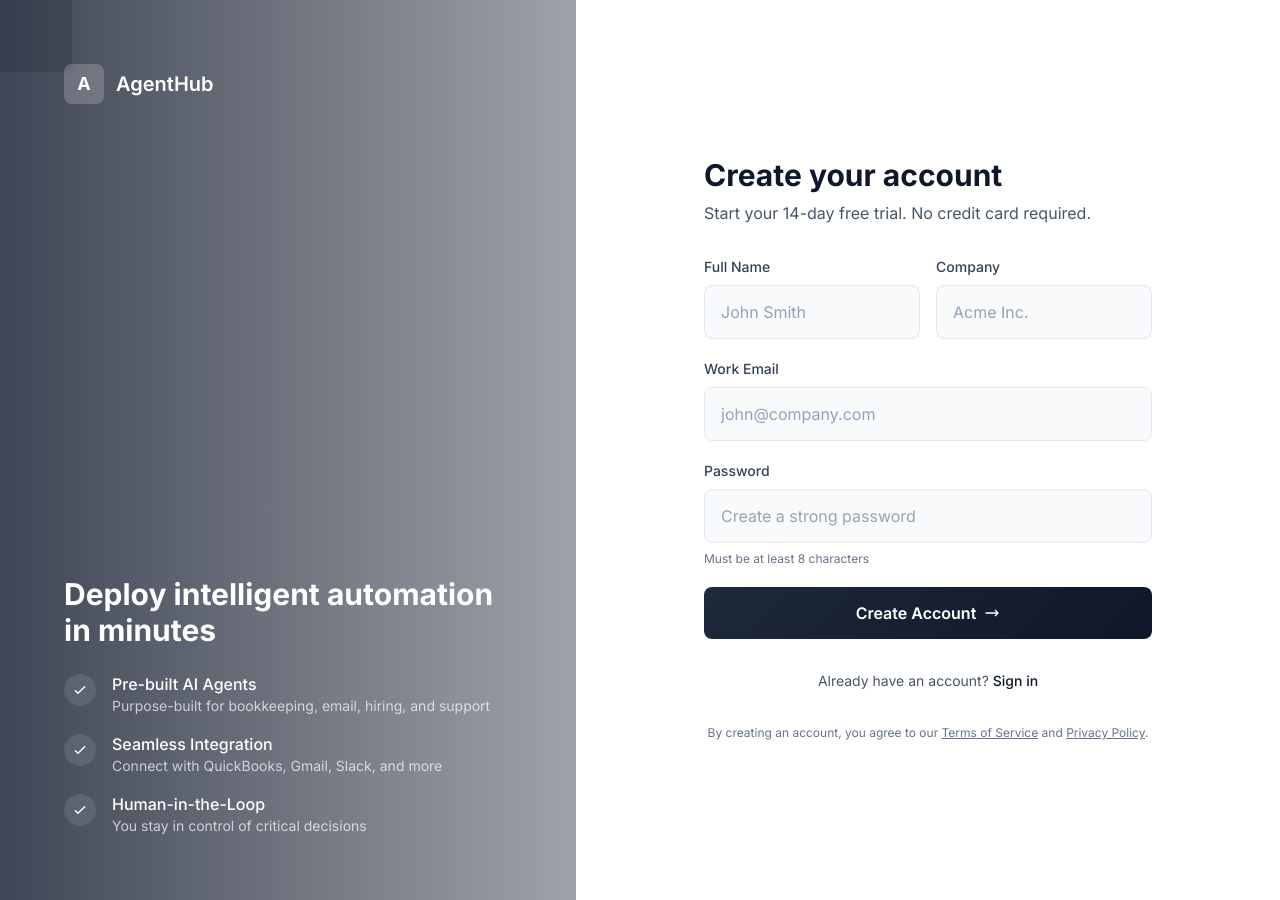
Test: SignUpPage › Form Submission › should display generic error when error has no message
This screenshot has width=1280, height=900.
Type "Jane Doe" into the field with placeholder "John Smith" at (812, 312), box [704,285,920,339]
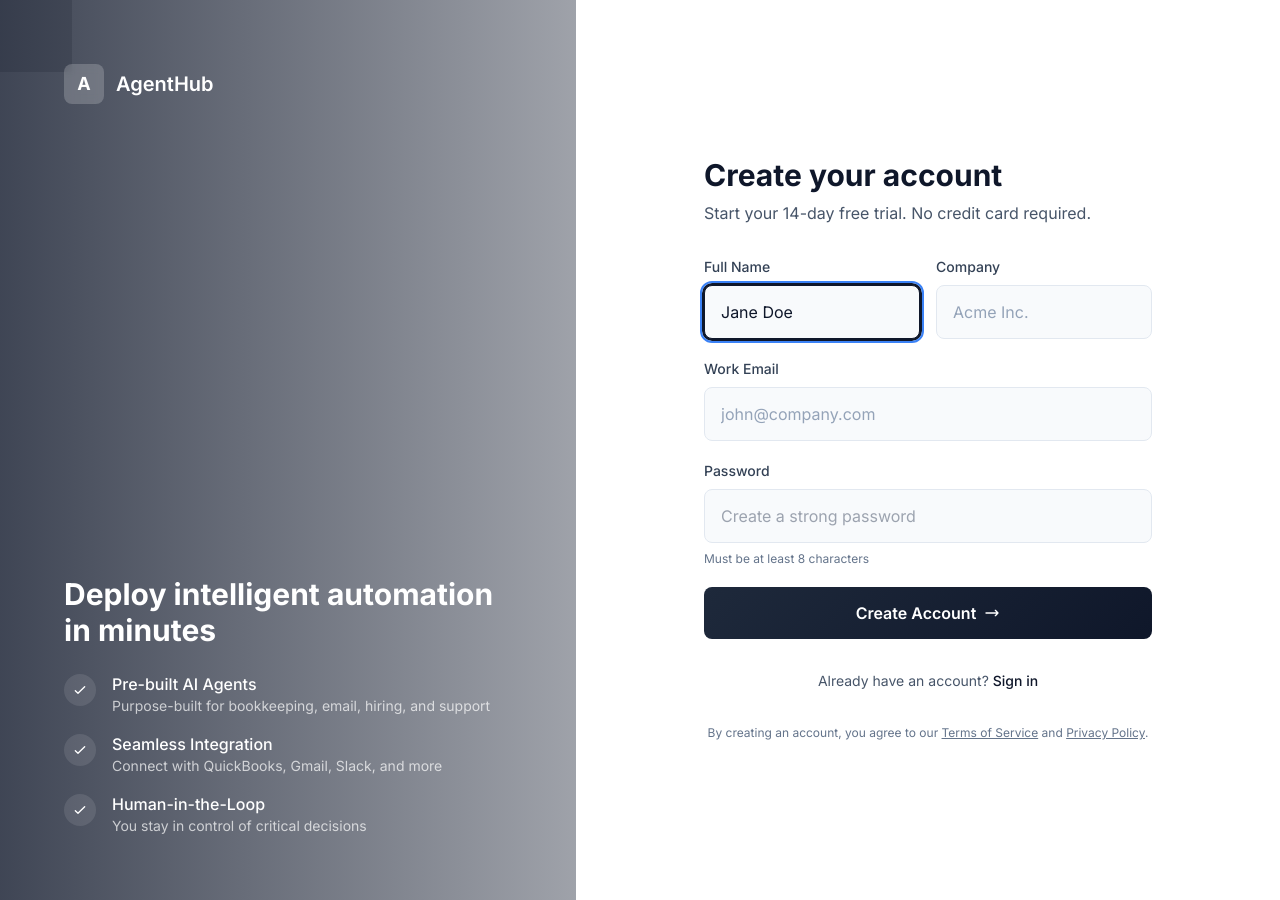
Type "jane@test.com" into the field with placeholder "john@company.com" at (928, 414), box [704,387,1152,441]
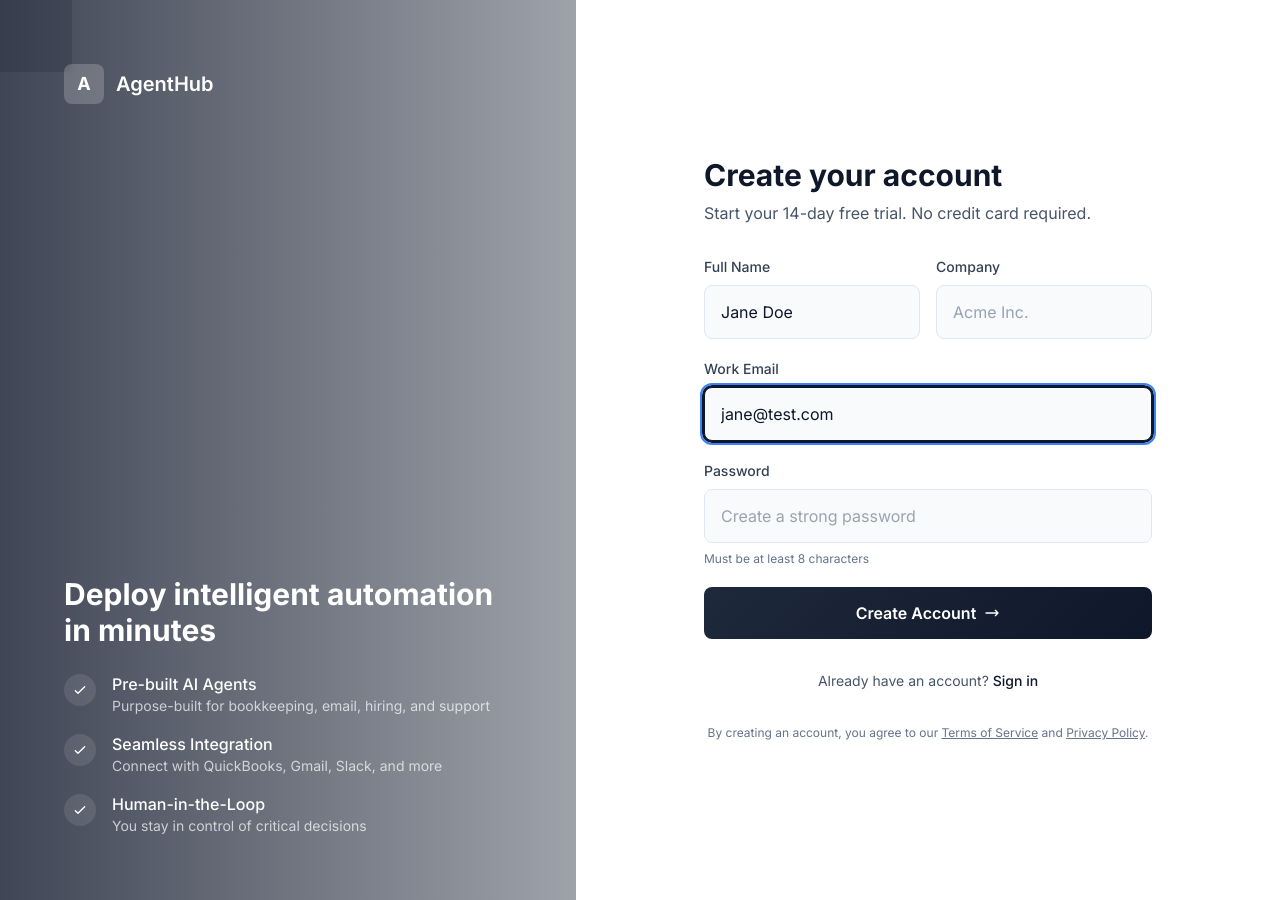
Type "securepass123" into the password field with placeholder "Create a strong password" at (928, 516), box [704,489,1152,543]
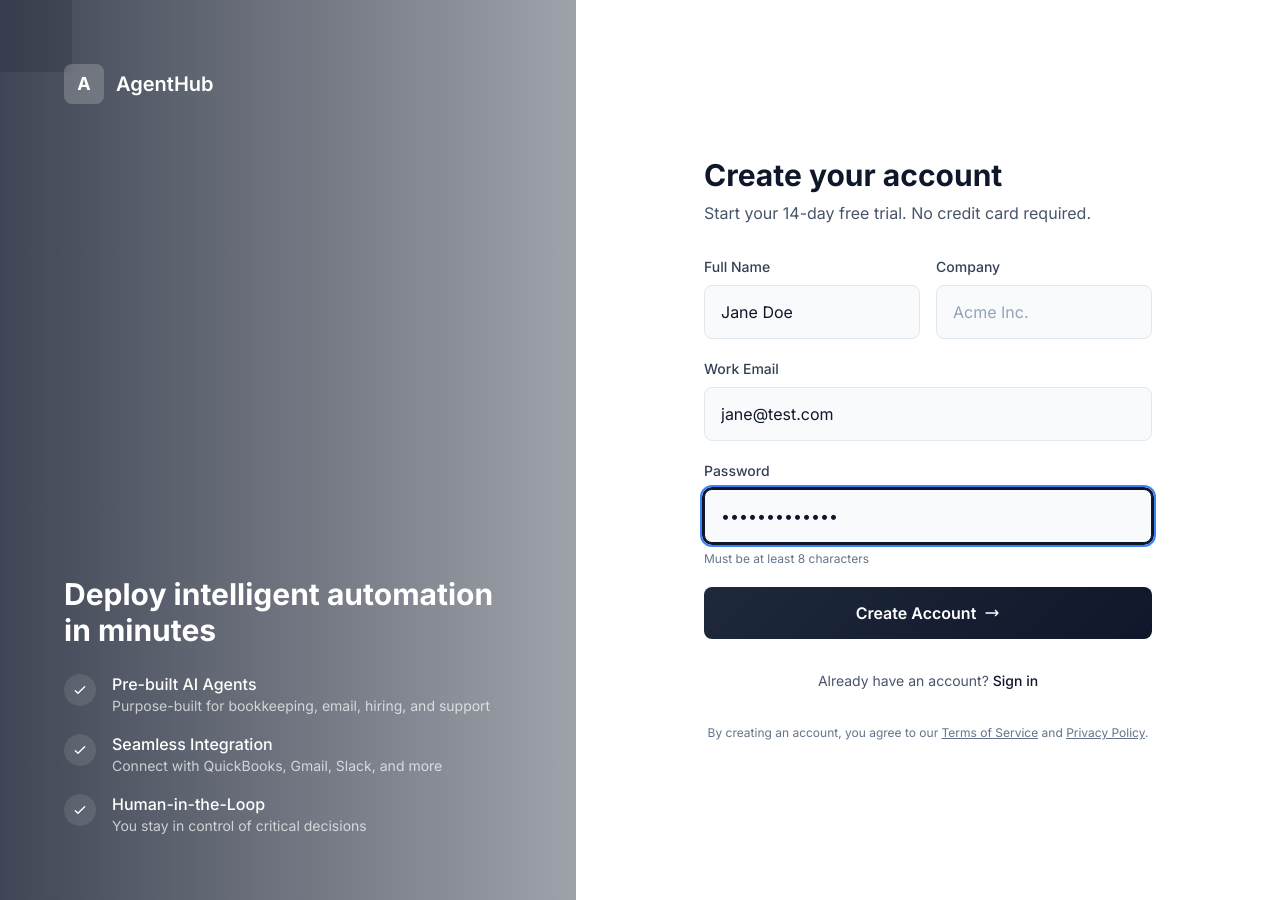
Click the button "Create Account" at (928, 613), box [704,587,1152,639]
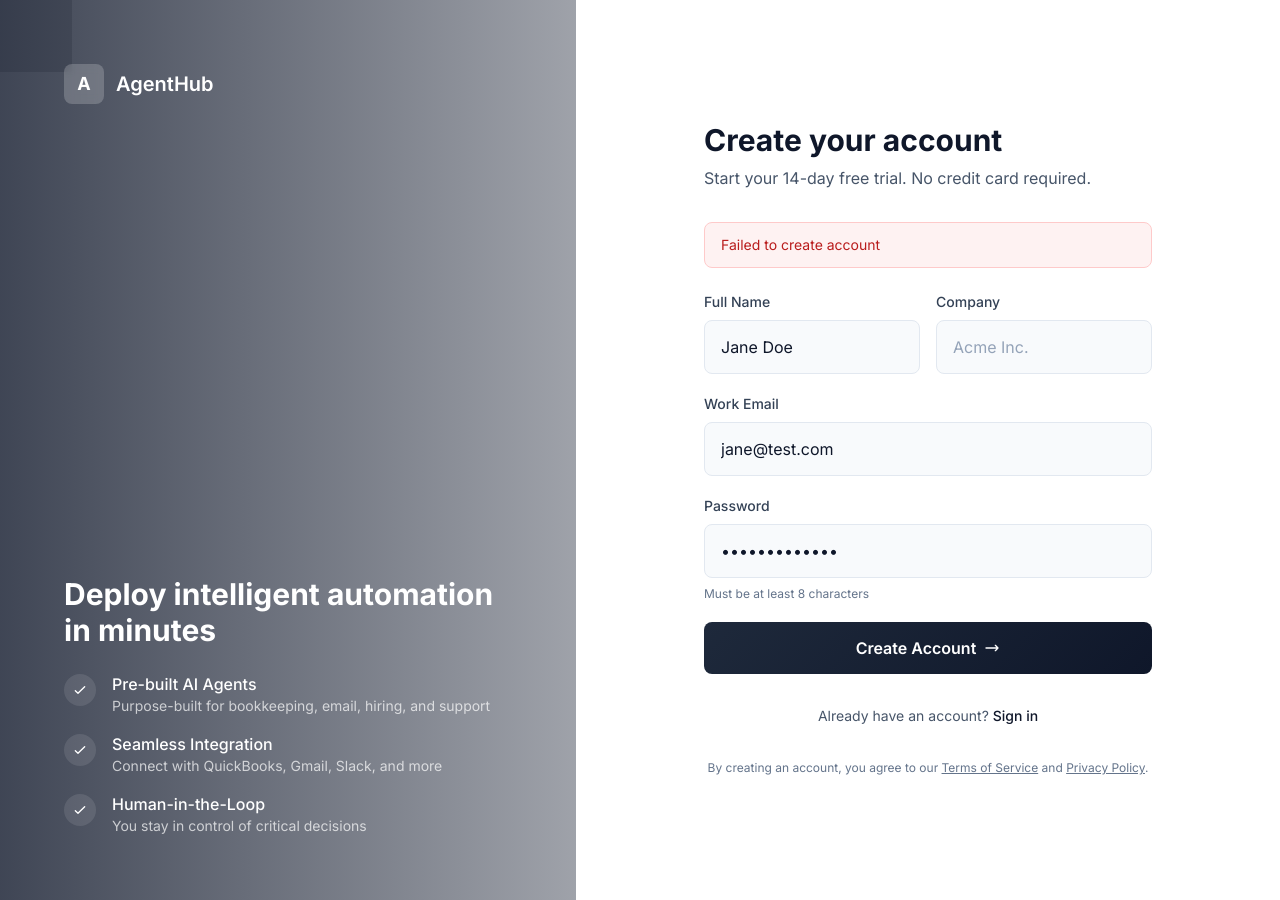
Result: the text "Failed to create account" is shown at [704,222,1152,268]
